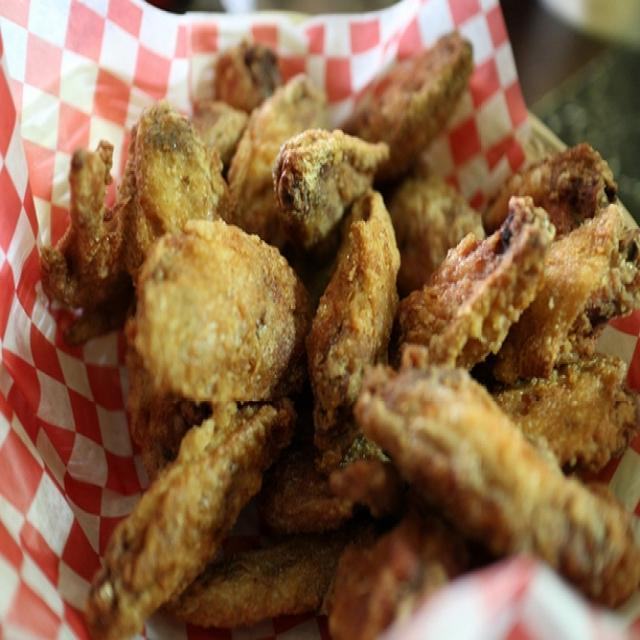Deep fried chicken wing: (54, 47, 627, 583)
